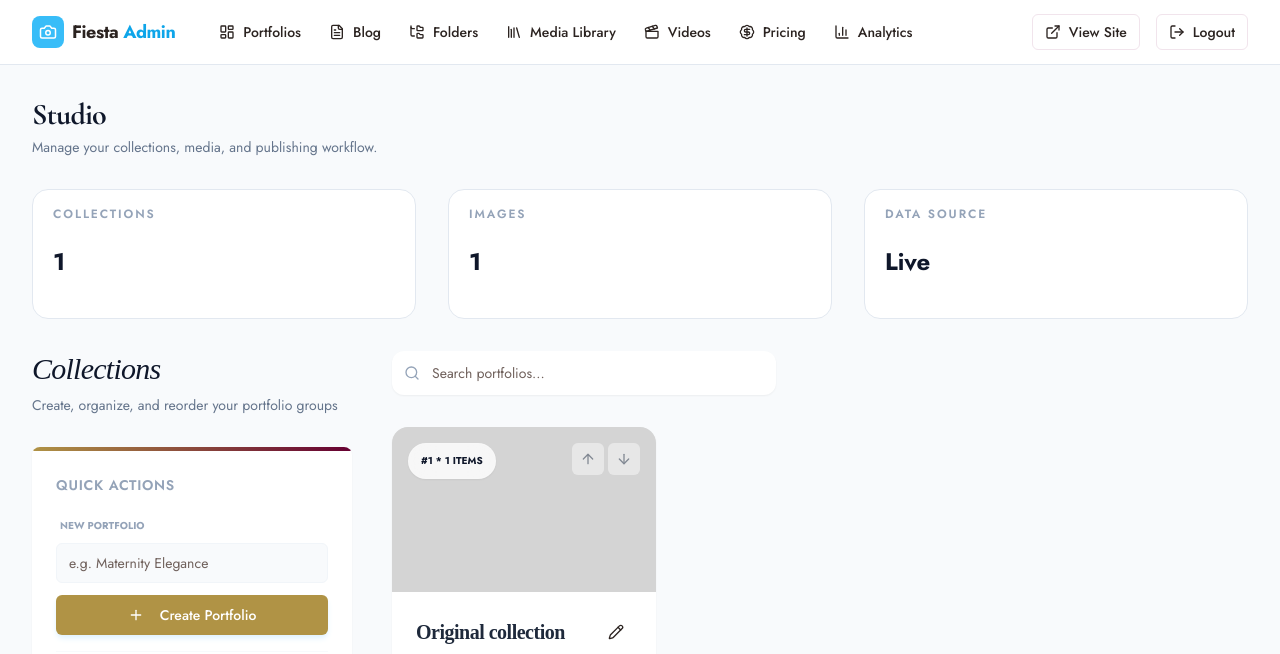
admin portfolio names › cancels without saving
Click the button named "Rename Original collection" at point(616, 632), box [600,616,632,648]
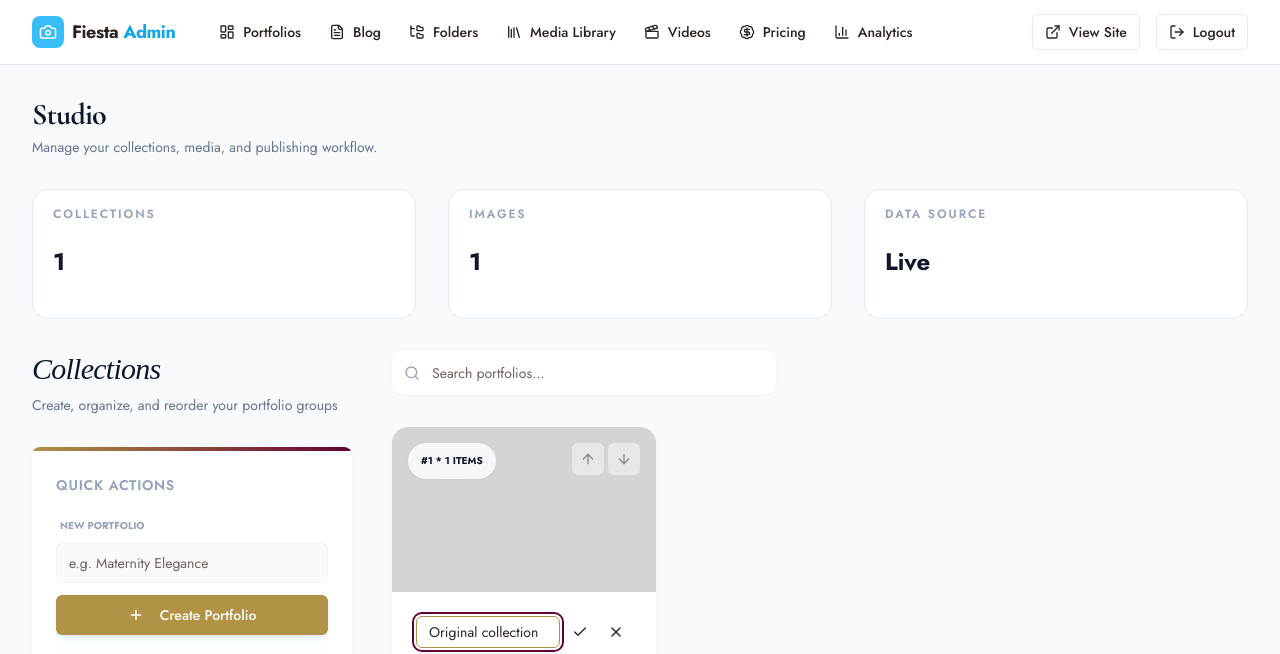
Replace the text in the field named "Portfolio name" with "Unsaved name" at point(488, 632), box [416,616,560,648]
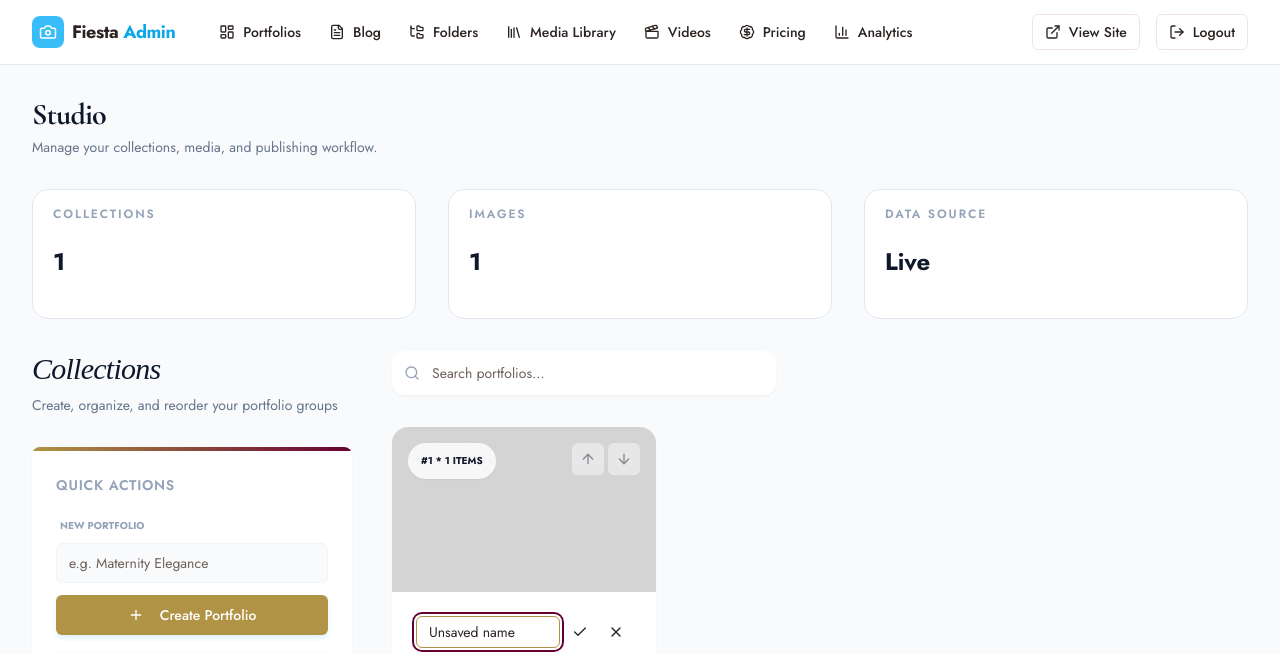
Click the button named "Cancel rename" at point(616, 632), box [600,616,632,648]
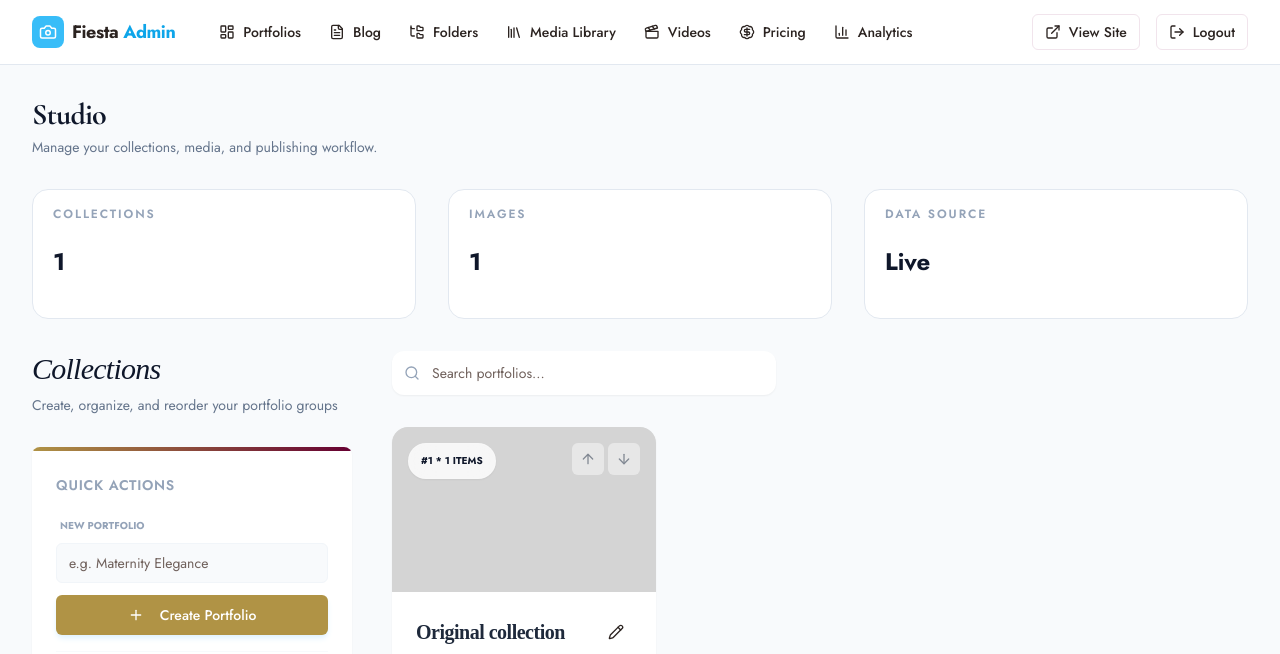
Expected: the button named "Rename Original collection" is shown, [600,616,632,648]
